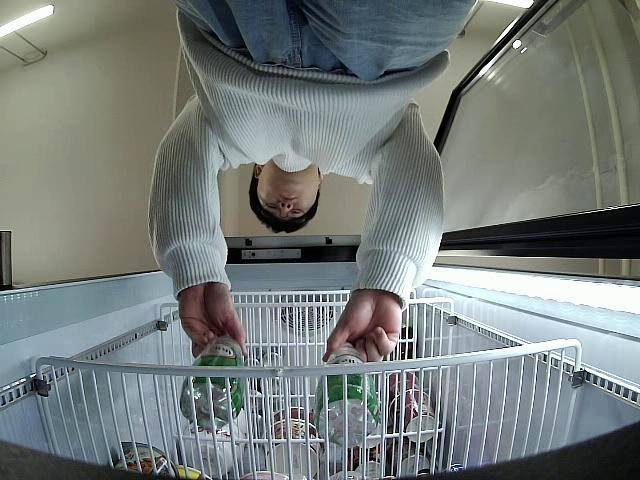18_trevi: (180, 335, 248, 433), (316, 340, 376, 449)
